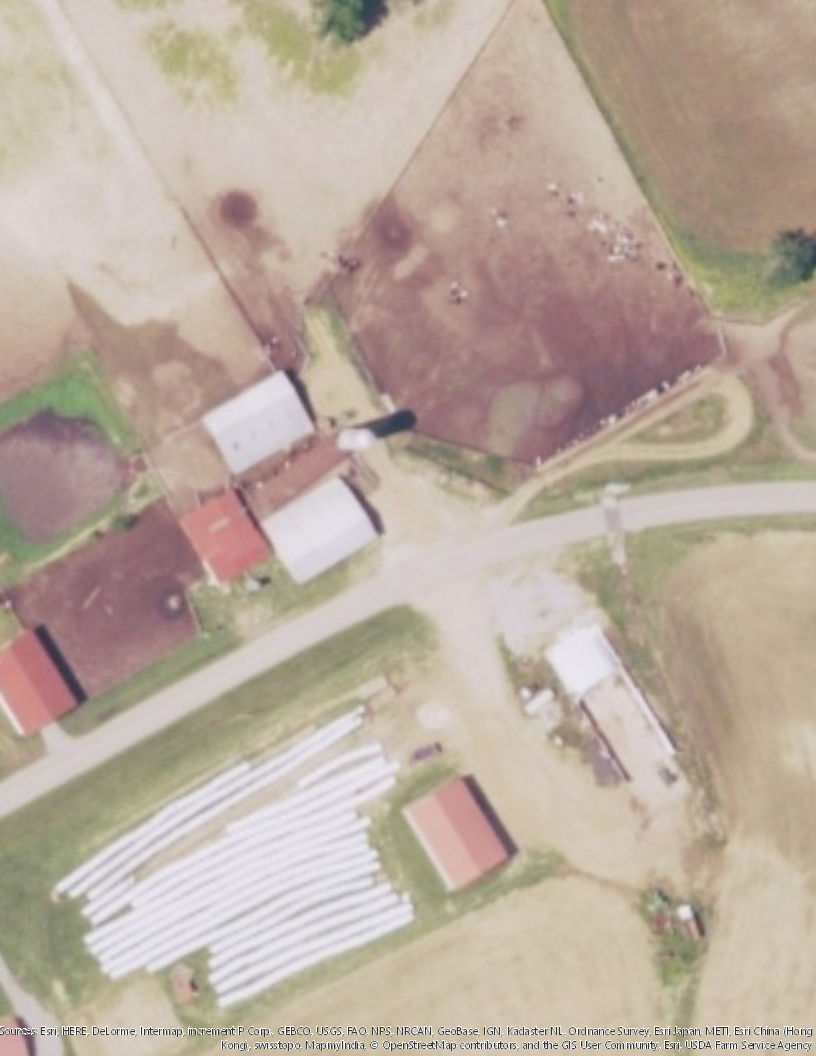cafo: (144, 365, 386, 587)
